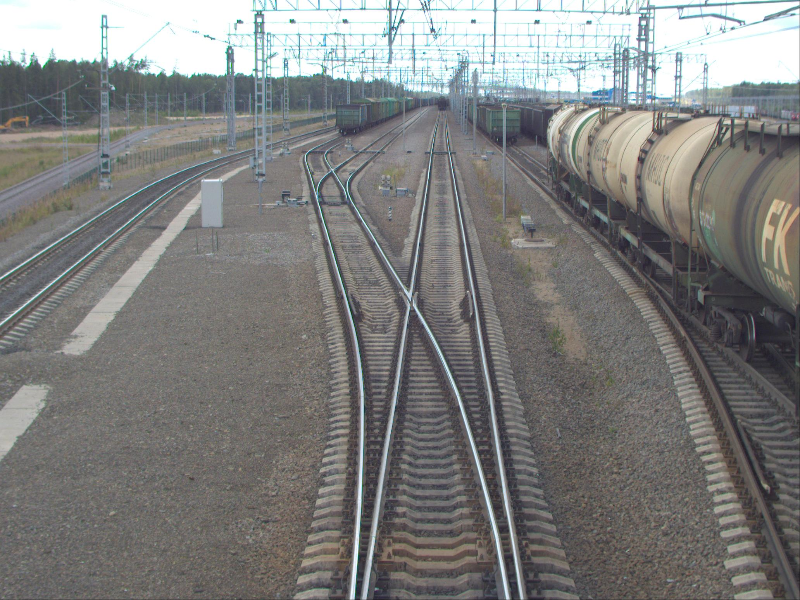right: (309, 168, 355, 203)
